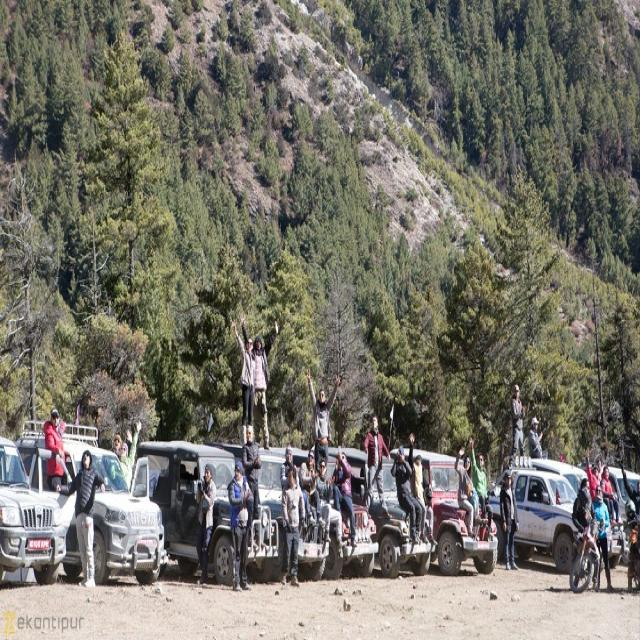body: (54, 448, 106, 588), (239, 312, 278, 451), (304, 366, 340, 474), (227, 458, 255, 592), (406, 430, 438, 547), (571, 475, 602, 593), (360, 413, 393, 521), (390, 443, 424, 546), (231, 320, 257, 450), (314, 456, 349, 552), (279, 465, 306, 589), (618, 455, 640, 596), (330, 443, 359, 548), (453, 444, 483, 539), (240, 424, 262, 549), (468, 435, 496, 533), (194, 462, 216, 585), (584, 446, 615, 528), (592, 484, 614, 595), (113, 418, 143, 493), (298, 448, 326, 527), (42, 406, 67, 492), (499, 472, 520, 572), (598, 464, 624, 528), (508, 383, 526, 470), (279, 444, 301, 494), (110, 427, 134, 461), (528, 416, 543, 458), (596, 458, 601, 468)
